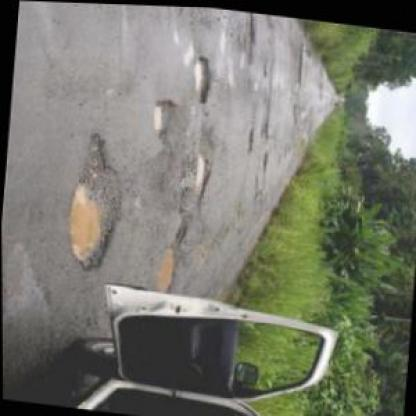pothole: (63, 128, 130, 276), (154, 240, 183, 295), (188, 50, 214, 101), (147, 96, 176, 136), (190, 151, 212, 194), (243, 122, 258, 153)
